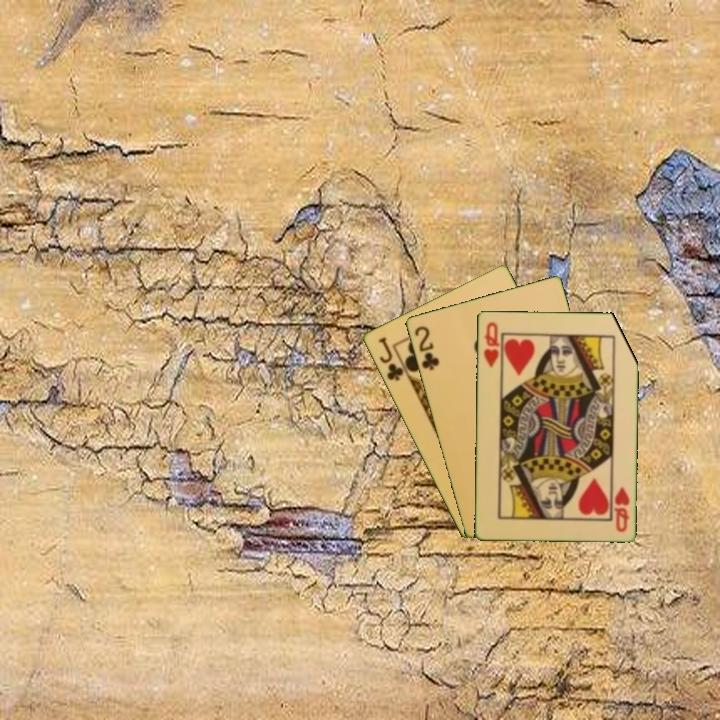2c: (411, 322, 442, 373)
Jc: (374, 333, 406, 384)
Qh: (480, 318, 502, 370), (610, 483, 632, 535)
